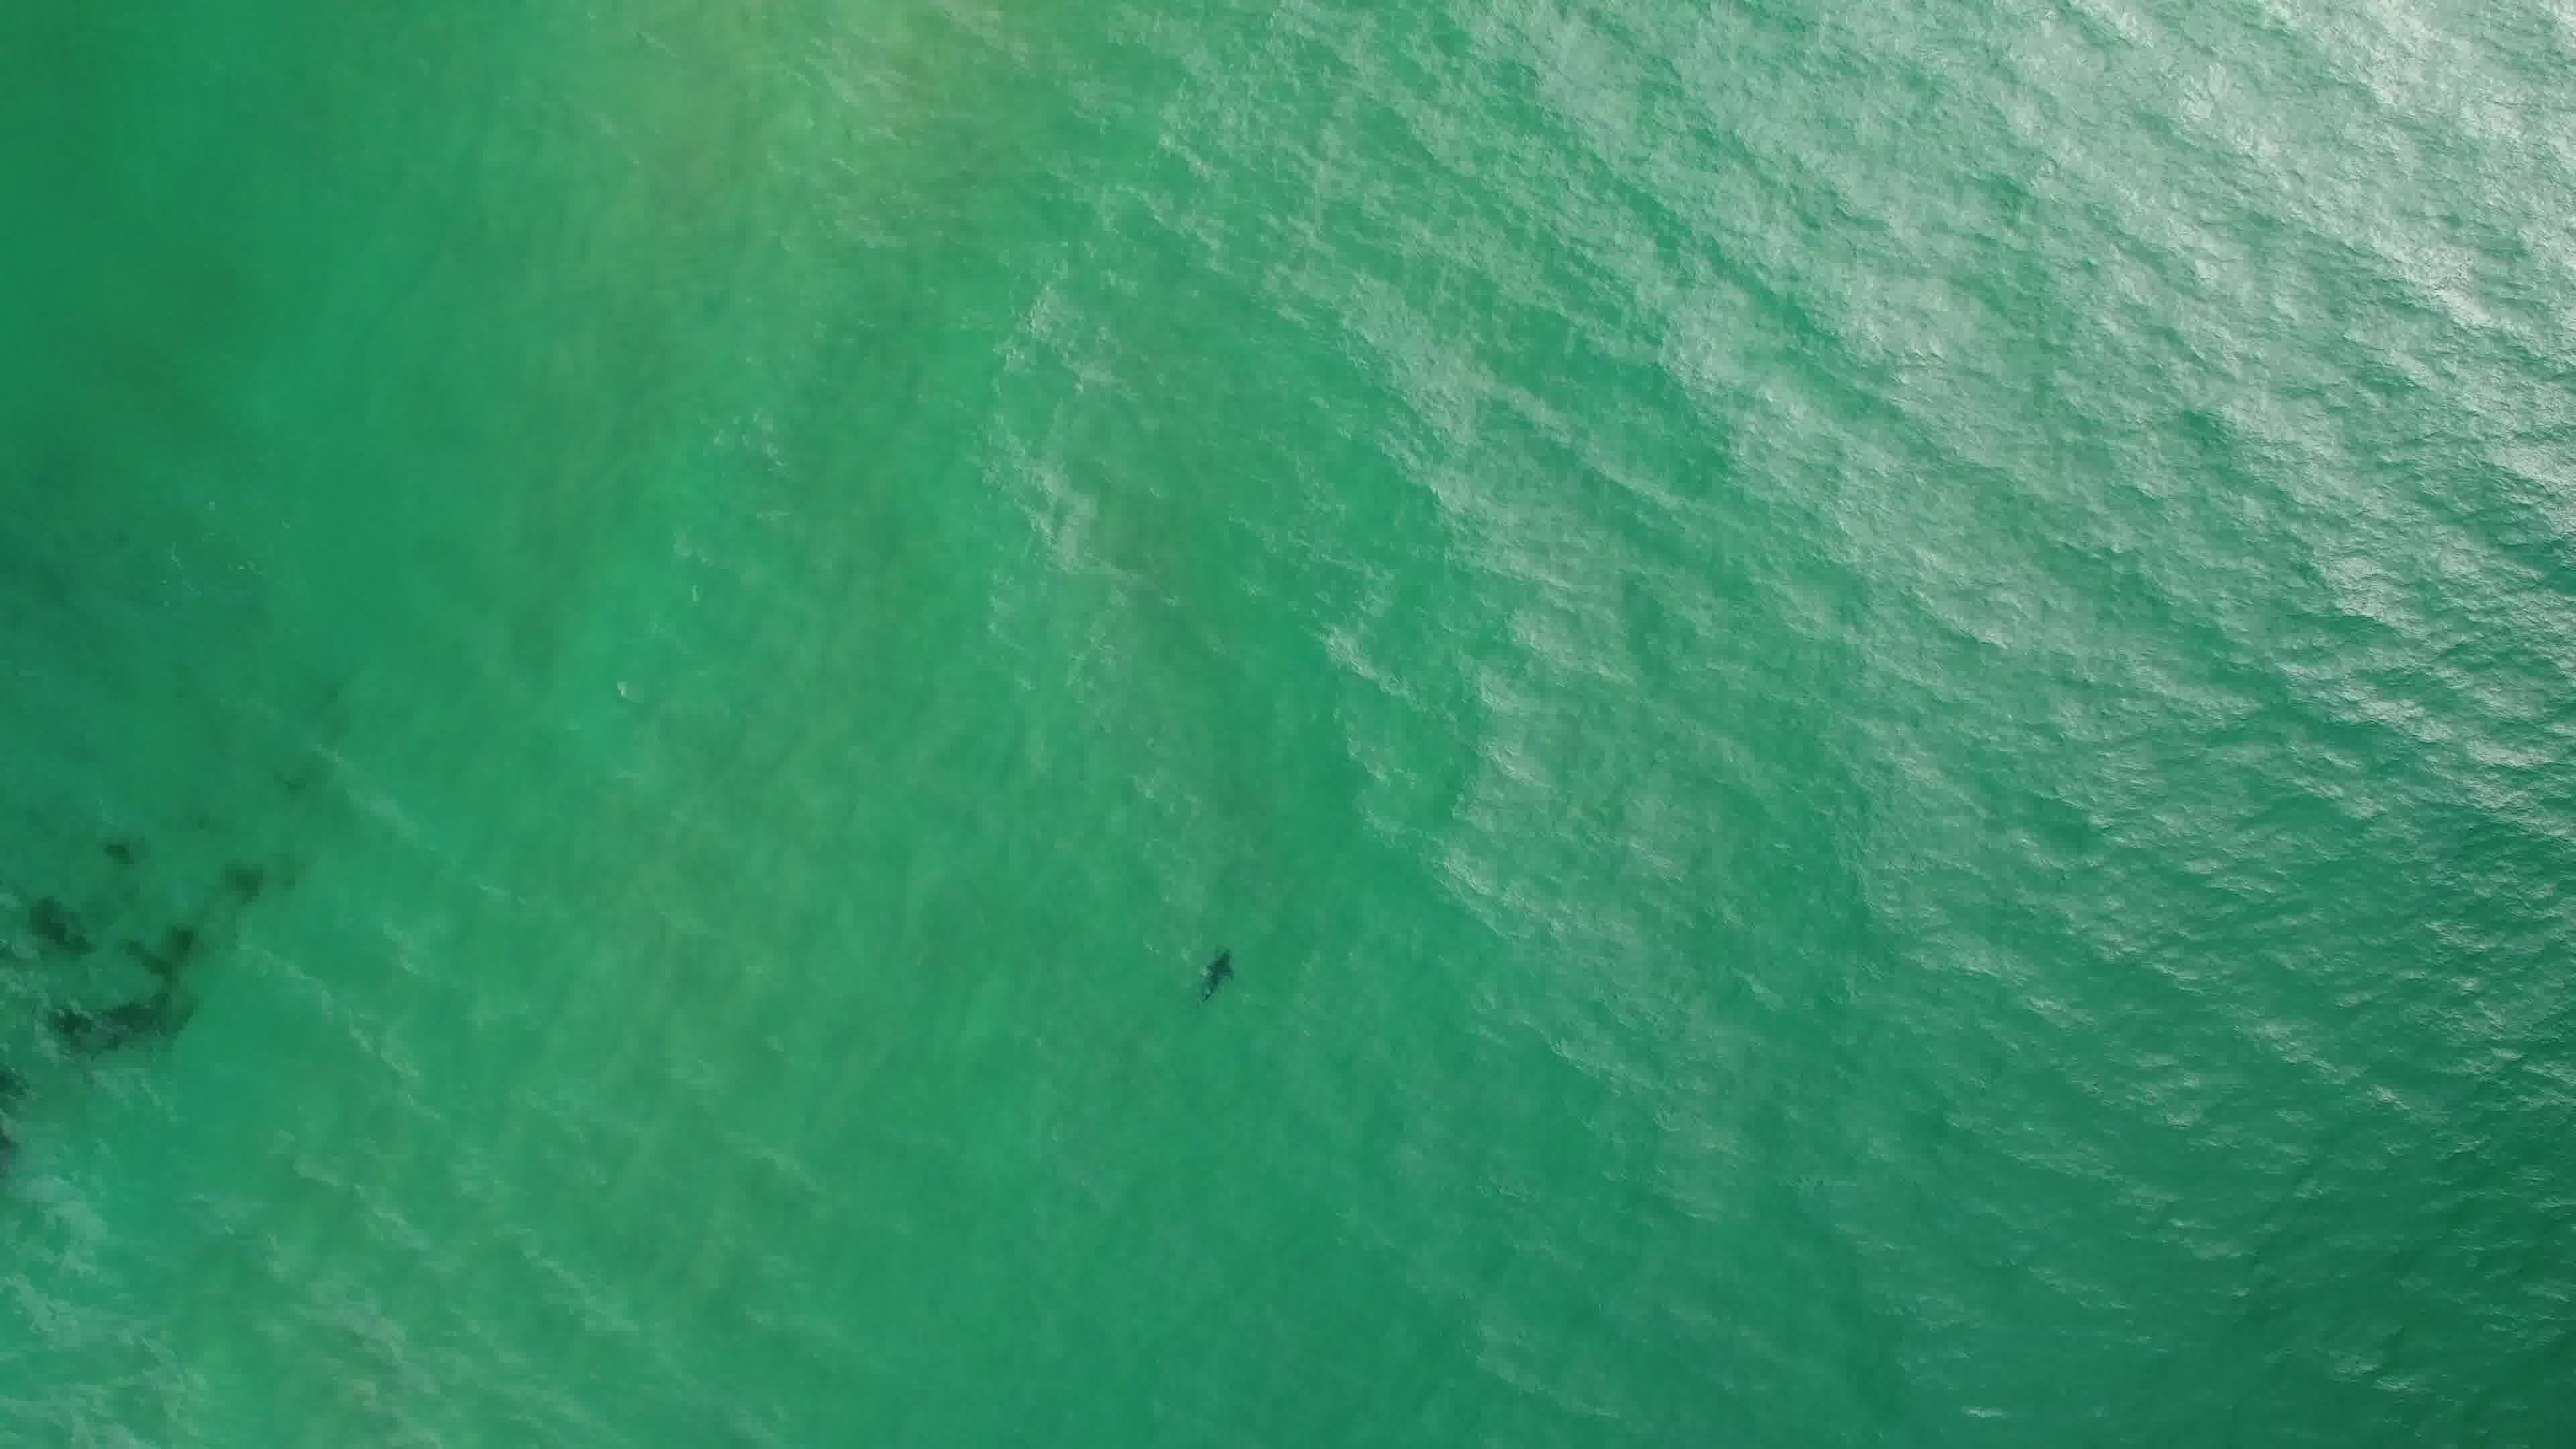shark: (1194, 945, 1242, 1008)
